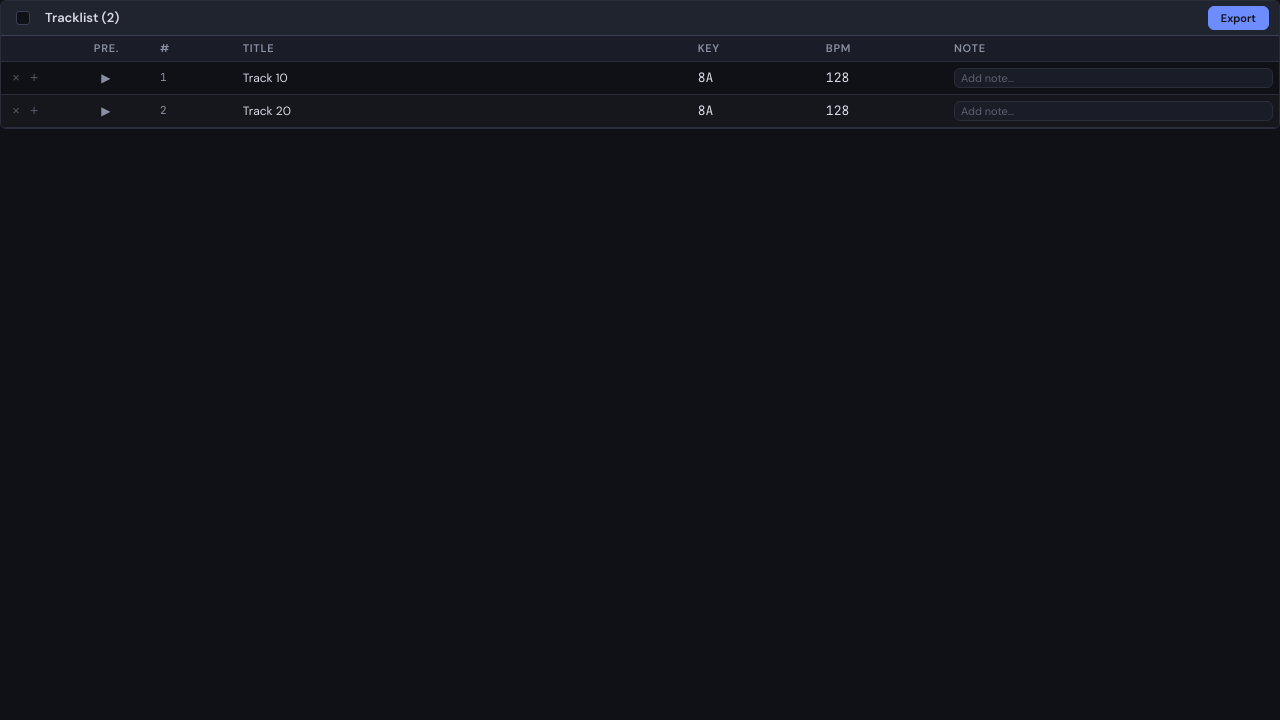
Test: SetTracklist row insert › inserts the picked track directly after the target row
This screenshot has width=1280, height=720.
Click the button "+" in the row of "Track 20".
click(34, 110)  # box 25,101 -> 43,119
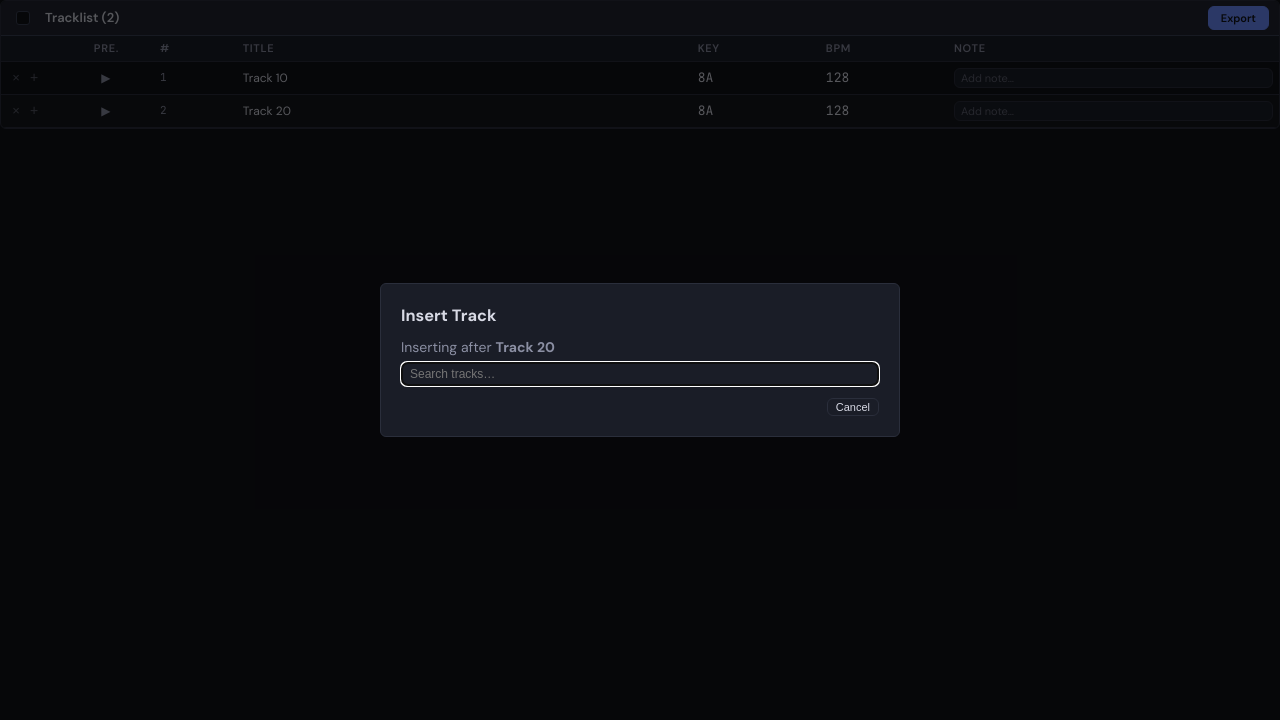
Type "Nightfall" into the field with test id "track-search-modal-input".
click(640, 374); type("Nightfall")  # box 401,362 -> 879,386
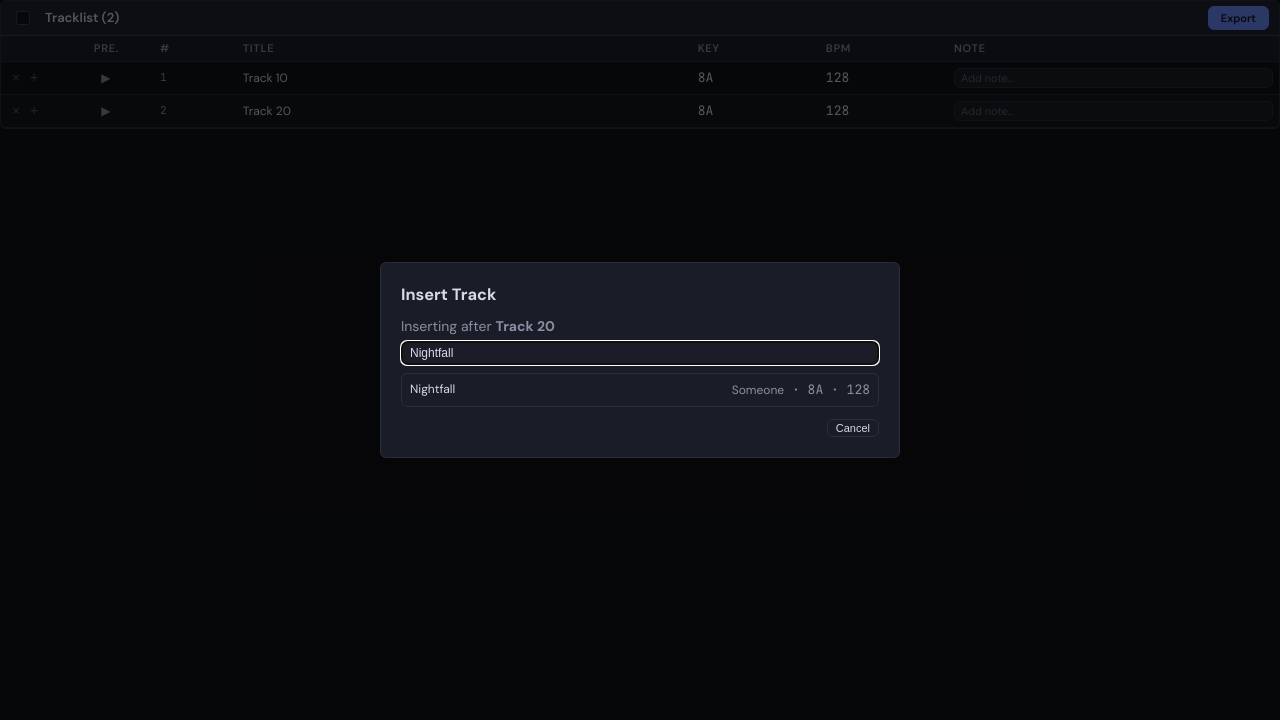
Press the mouse on the list item with test id "track-search-modal-item" at (433, 389), box 410,381 -> 870,398
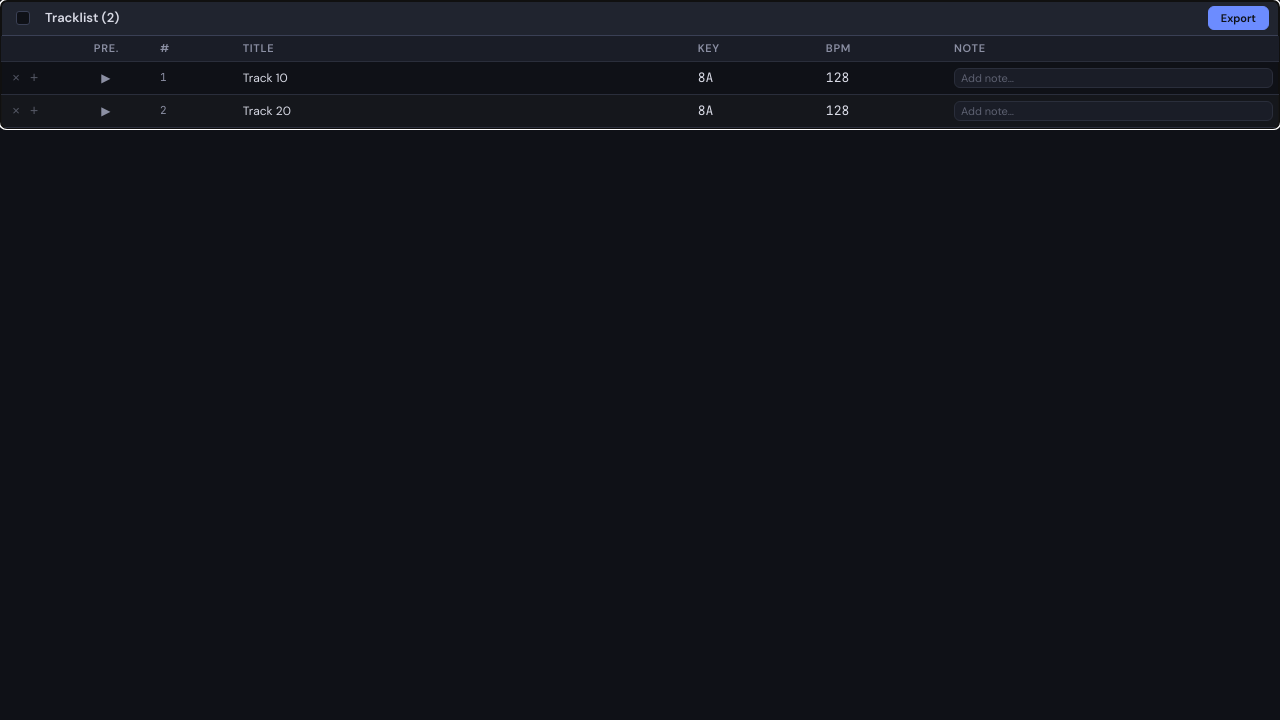
Now the dialog with test id "track-search-modal" is gone
